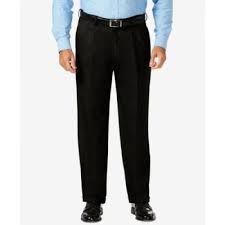F_belt: (75, 6, 159, 31)
F_dress pants: (73, 21, 156, 208)
